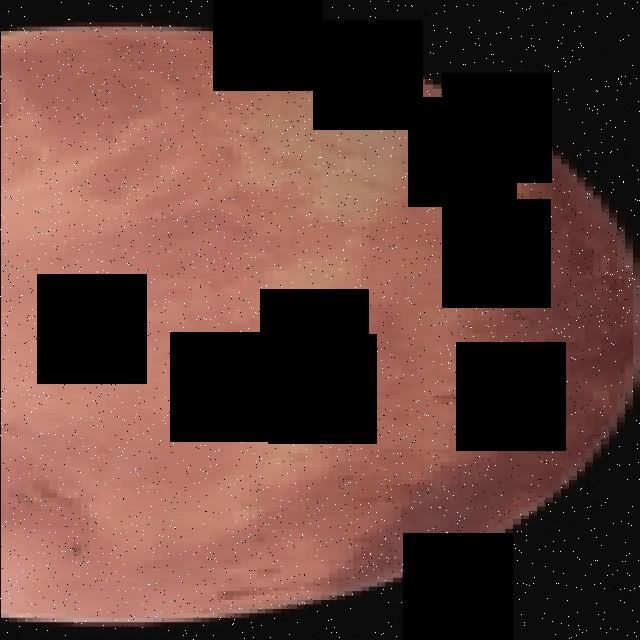Mars: (0, 26, 640, 626)
